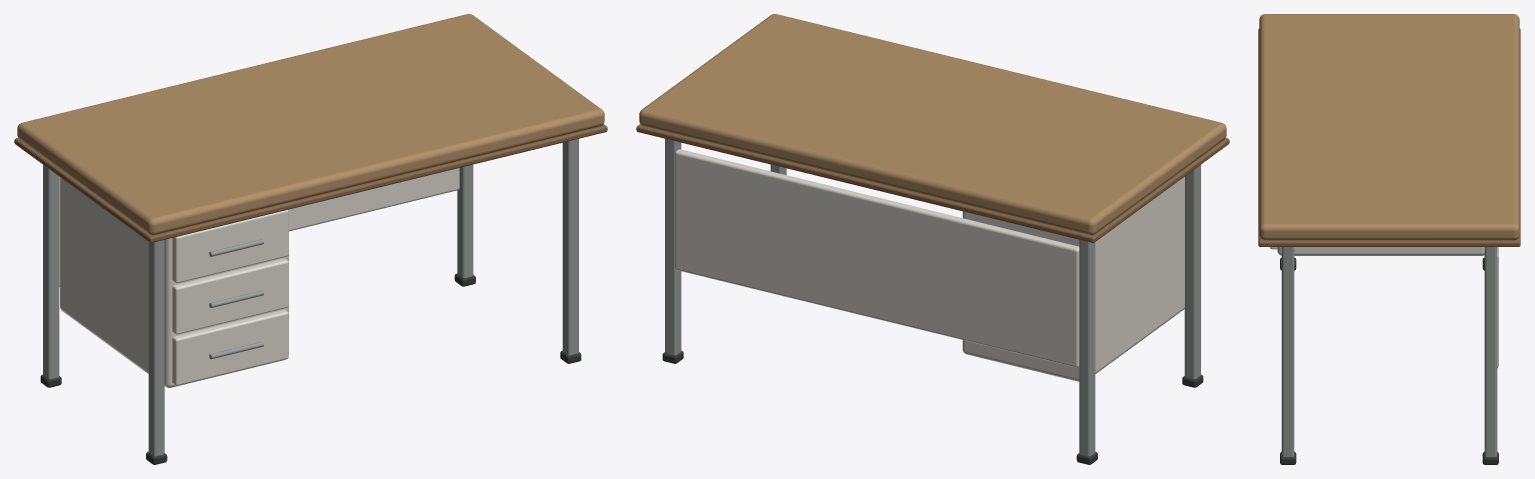
File: workDesk.glb
3 renders of one model, left to right at view 1: azimuth 30°, elevation 25°; view 2: azimuth 150°, elevation 25°; view 3: azimuth 270°, elevation 25°, orthographic. The views are drawn at different scales.
Visible parts, largest first — view 1: Laminate worktop, Individual drawer front (×3), Drawer pedestal, Steel leg (×4), Edge banding, Modesty panel; view 2: Laminate worktop, Modesty panel, Drawer pedestal, Steel leg (×3), Edge banding; view 3: Laminate worktop, Steel leg (×2), Edge banding, Drawer pedestal.
Boxes of the visible parts, x1=… form: Laminate worktop: x1=17, y1=14, x2=604, y2=235; Individual drawer front (×3): x1=172, y1=210, x2=288, y2=385; Drawer pedestal: x1=60, y1=177, x2=288, y2=387; Steel leg (×4): x1=43, y1=139, x2=578, y2=456; Edge banding: x1=14, y1=124, x2=607, y2=242; Modesty panel: x1=59, y1=168, x2=459, y2=287; Laminate worktop: x1=639, y1=14, x2=1226, y2=235; Modesty panel: x1=675, y1=149, x2=1079, y2=367; Drawer pedestal: x1=962, y1=176, x2=1184, y2=381; Steel leg (×3): x1=665, y1=139, x2=1200, y2=456; Edge banding: x1=636, y1=124, x2=1229, y2=242; Laminate worktop: x1=1259, y1=14, x2=1519, y2=240; Steel leg (×2): x1=1281, y1=247, x2=1497, y2=456; Edge banding: x1=1258, y1=28, x2=1520, y2=246; Drawer pedestal: x1=1277, y1=247, x2=1484, y2=255.
Bounding box in the file's own units: 1.4 × 0.7505 × 0.725.
